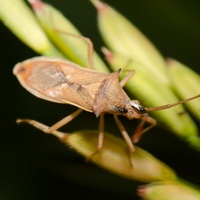insect: (13, 56, 199, 165)
